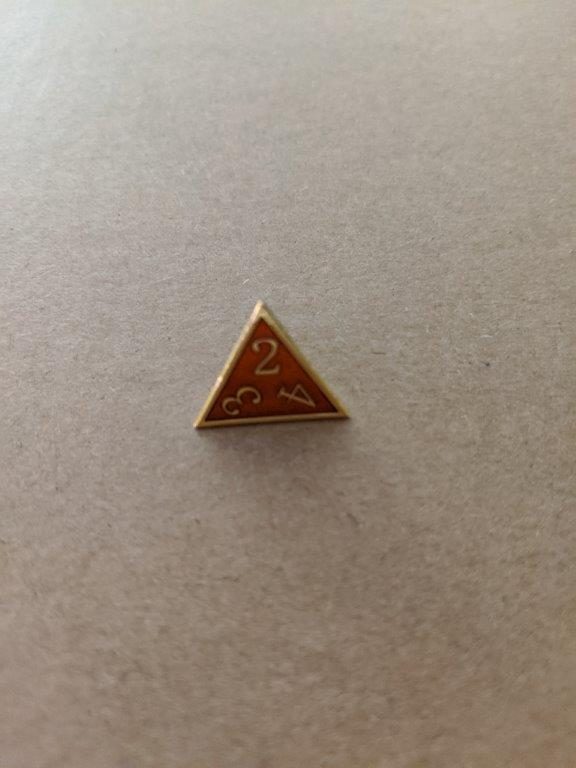d4-2: (184, 298, 355, 439)
